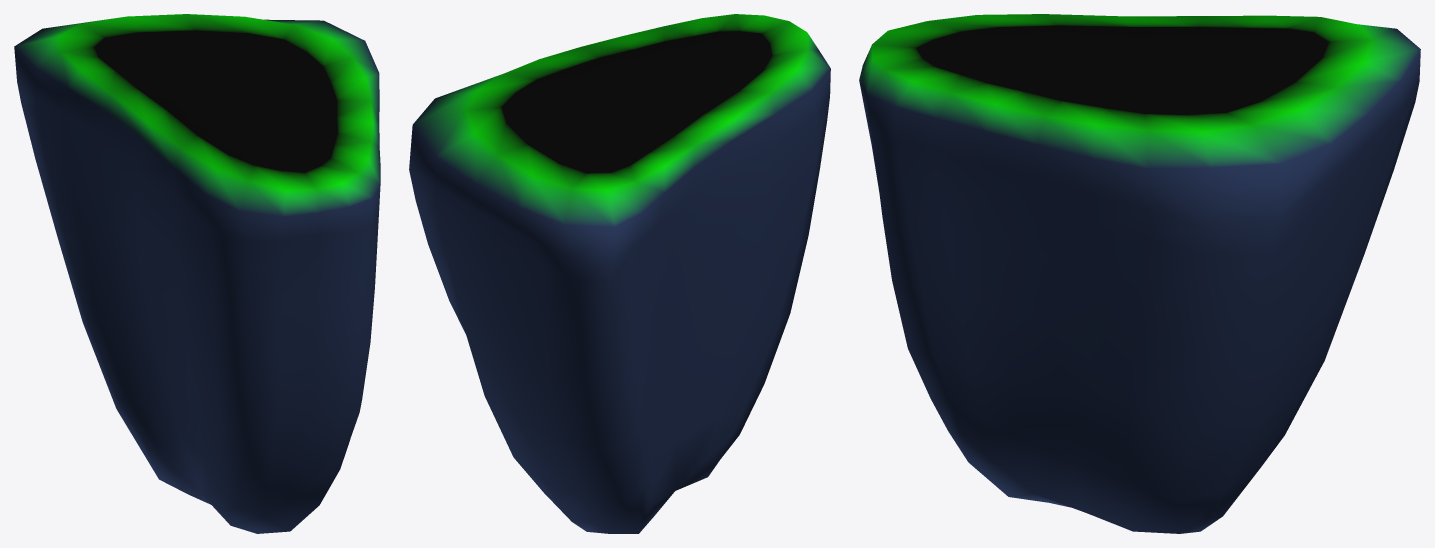
The model's file is New_Land_02.fbx.
3 views of the same model, side by side, from view 1: azimuth 30°, elevation 25°; view 2: azimuth 150°, elevation 25°; view 3: azimuth 270°, elevation 25° (orthographic). The views are drawn at different scales.
Visible parts, largest first — view 1: Land_02_low1; view 2: Land_02_low1; view 3: Land_02_low1.
Boxes of the visible parts, bbox=[...] form: Land_02_low1: bbox=[14, 14, 380, 533]; Land_02_low1: bbox=[409, 14, 830, 533]; Land_02_low1: bbox=[859, 14, 1420, 533].
Size of the model in its own units: 930 by 1370 by 1501.
